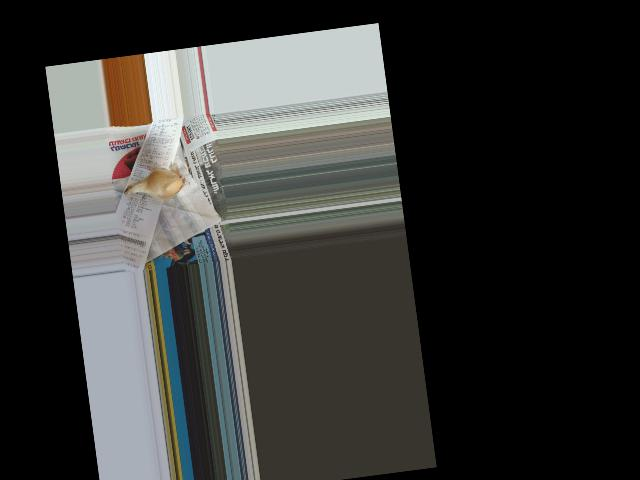onion: (140, 165, 181, 202)
